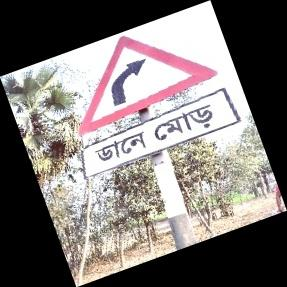Right-turn: (76, 25, 242, 181)
